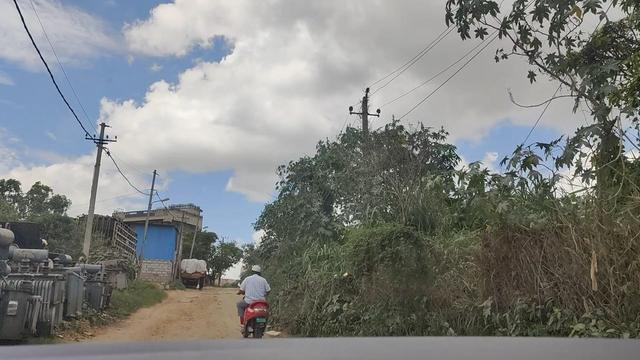HMV: (179, 255, 212, 295)
LMV: (234, 259, 276, 341)
UnsurfacedRoad: (135, 300, 231, 342)
